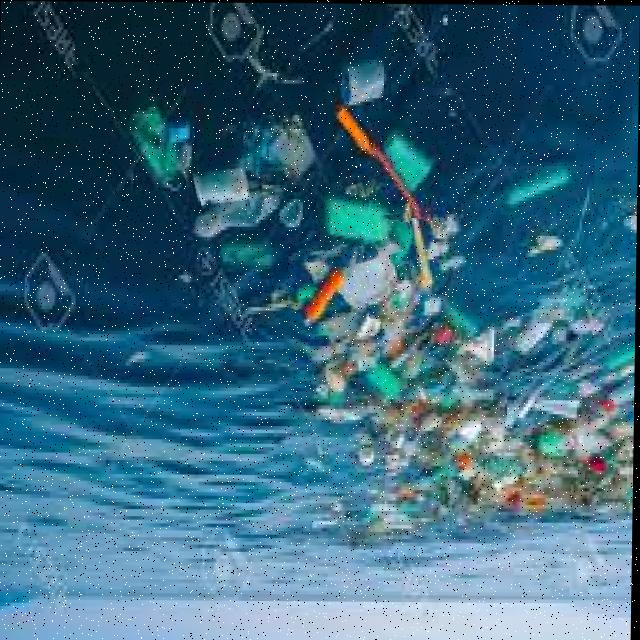litter: (314, 166, 411, 262), (287, 241, 369, 333), (368, 107, 437, 216), (186, 155, 262, 213)
